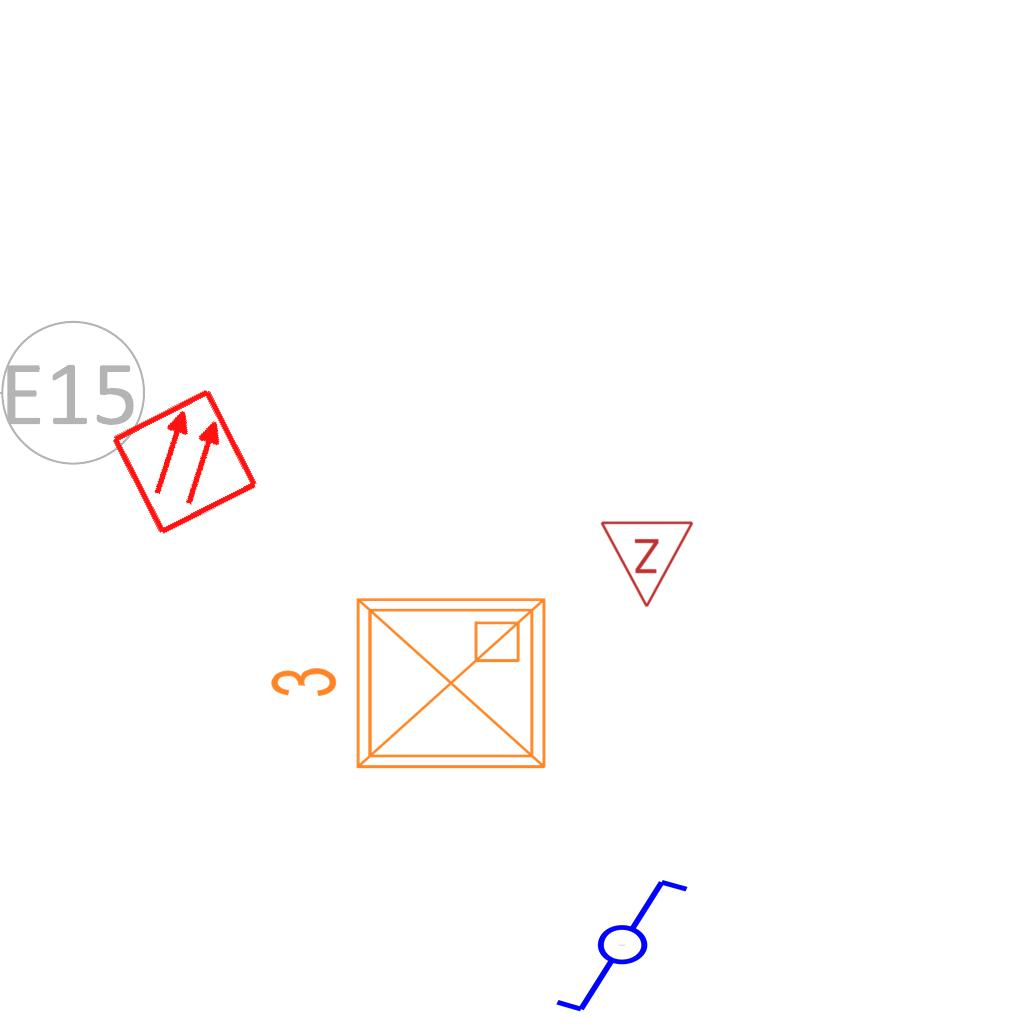Einbaudownlights_LED_Konferenzraeume: (260, 583, 560, 791)
RMO_Rauchmelder_optischer: (108, 385, 261, 538)
Wechselschalter: (552, 875, 709, 1019)
Zimmersignalleuchte: (599, 514, 697, 614)
